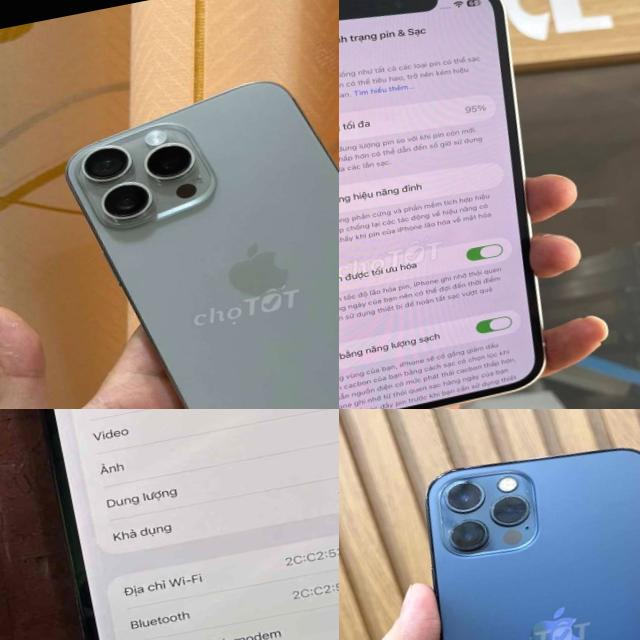gen_12_13: (339, 0, 586, 409), (397, 426, 640, 640)
gen_14: (0, 409, 339, 640)
gen_16: (67, 82, 339, 409)
